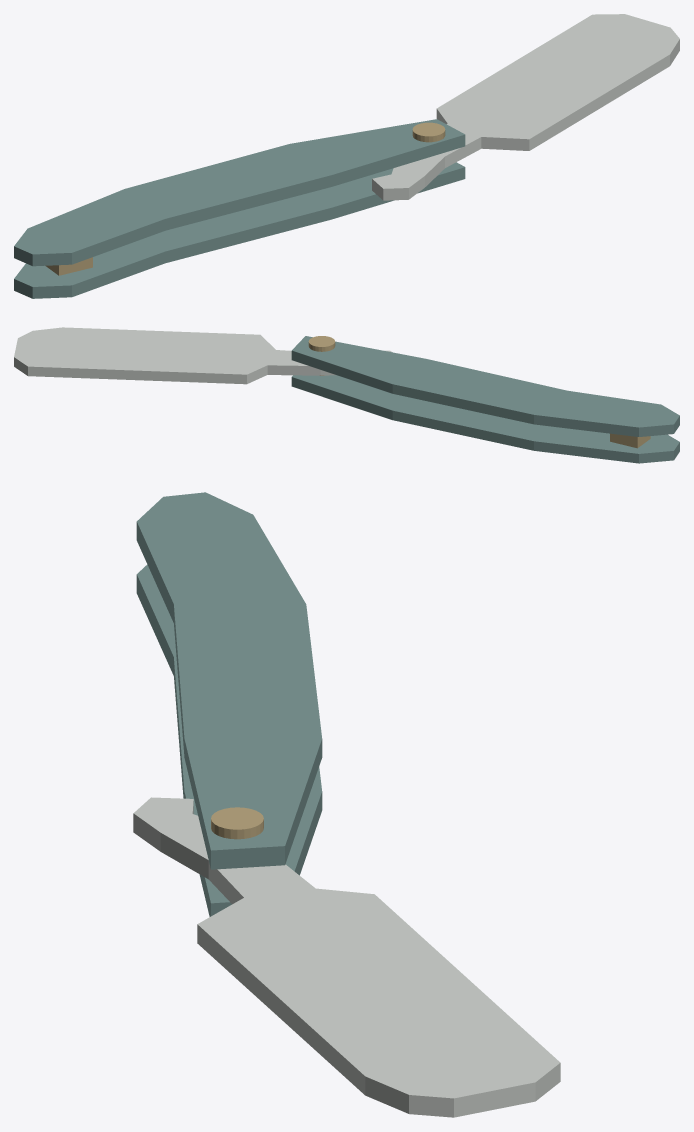
The picture shows the model from 3 angles, top to bottom: view 1: azimuth 30°, elevation 25°; view 2: azimuth 150°, elevation 25°; view 3: azimuth 270°, elevation 25°; orthographic projection. The views are drawn at different scales.
Visible parts, largest first — view 1: WholeUpperCurvedHandleScale, WholeBluntRoundNoseTangAndTail, WholeLowerCurvedHandleScale, WholeUpperPivotRetainer; view 2: WholeUpperCurvedHandleScale, WholeBluntRoundNoseTangAndTail, WholeLowerCurvedHandleScale, WholeRearGapSpacer, WholeUpperPivotRetainer; view 3: WholeBluntRoundNoseTangAndTail, WholeUpperCurvedHandleScale, WholeLowerCurvedHandleScale, WholeUpperPivotRetainer.
Boxes of the visible parts, x1,y1,x2,y2 form: WholeUpperCurvedHandleScale: (14,119,465,266); WholeBluntRoundNoseTangAndTail: (372,14,679,200); WholeLowerCurvedHandleScale: (14,162,465,298); WholeUpperPivotRetainer: (412,122,445,142); WholeUpperCurvedHandleScale: (291,336,679,436); WholeBluntRoundNoseTangAndTail: (14,327,392,384); WholeLowerCurvedHandleScale: (291,375,679,463); WholeRearGapSpacer: (610,433,650,448); WholeUpperPivotRetainer: (308,336,335,351); WholeBluntRoundNoseTangAndTail: (133,797,560,1117); WholeUpperCurvedHandleScale: (136,492,322,869); WholeLowerCurvedHandleScale: (136,564,322,916); WholeUpperPivotRetainer: (211,807,263,839).
Size of the model in its own units: 0.2589 by 0.017 by 0.0806.
